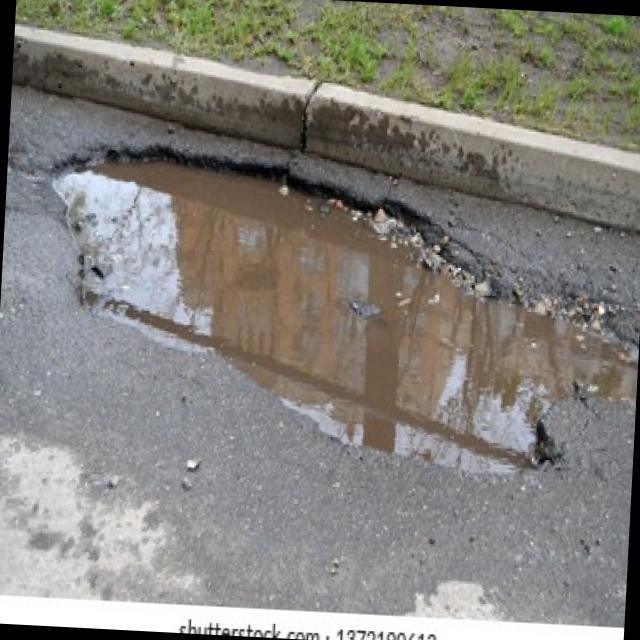Pothole: (30, 149, 640, 479)
